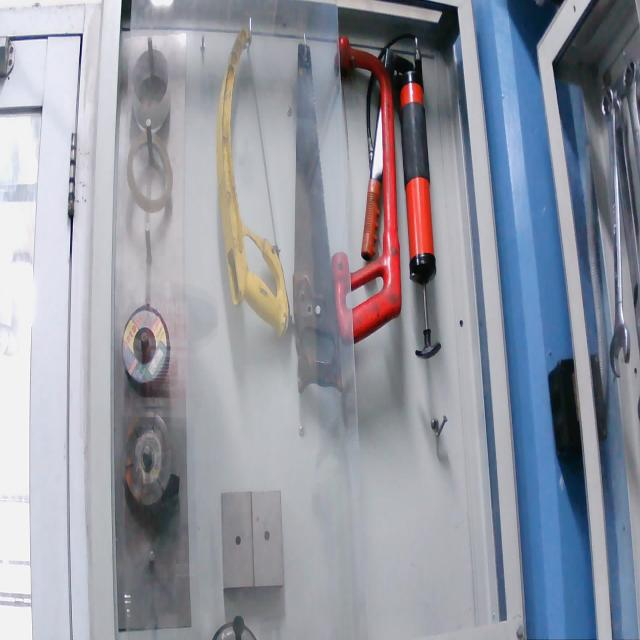gergaji_besi: (332, 34, 404, 349)
